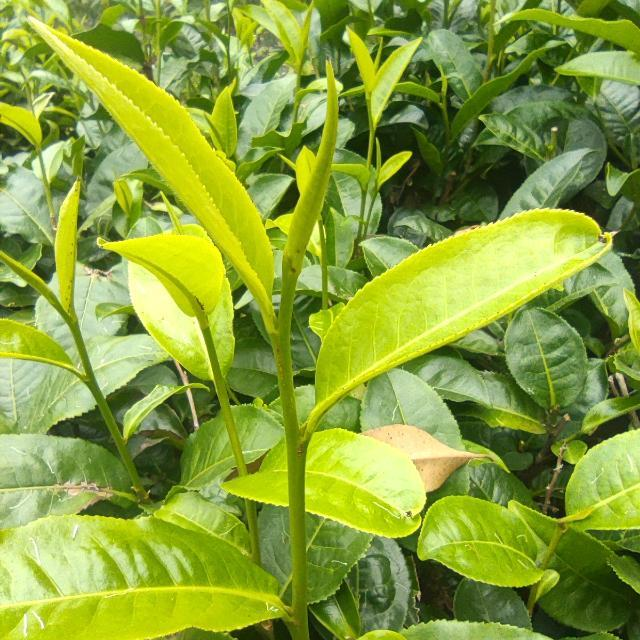Stem: (271, 334, 293, 378), (70, 324, 86, 353), (369, 130, 376, 149), (296, 73, 300, 85)
